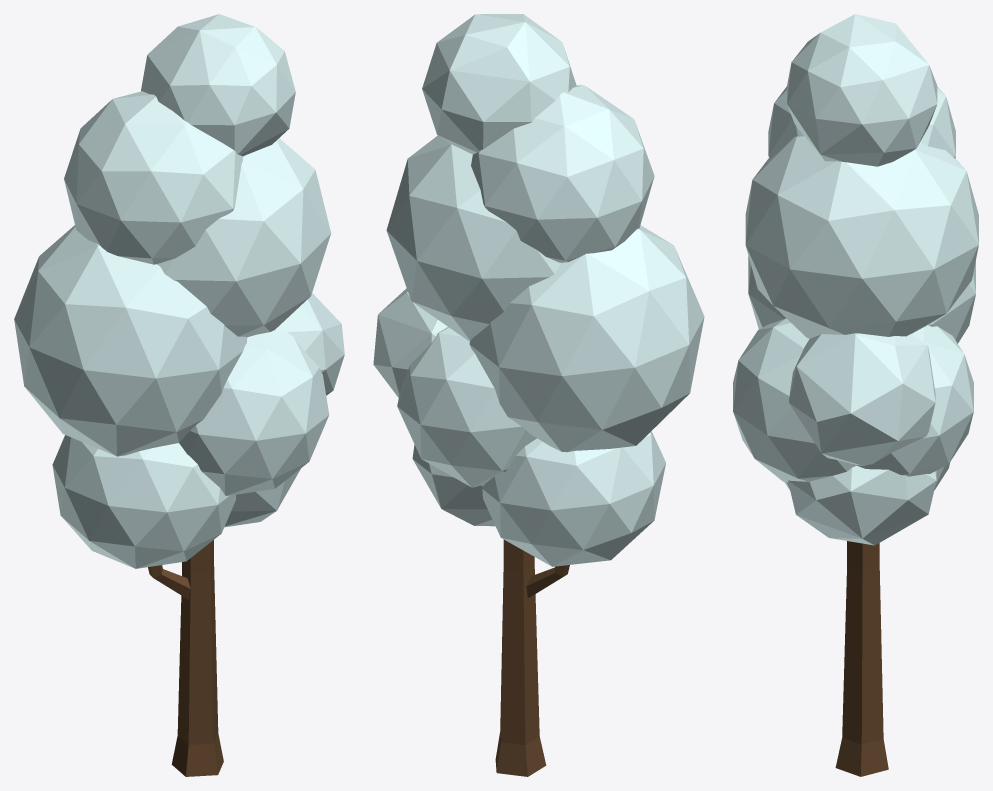
The model's file is tree-oak_white.glb.
3 views of the same model, side by side, from view 1: azimuth 30°, elevation 25°; view 2: azimuth 150°, elevation 25°; view 3: azimuth 270°, elevation 25° (orthographic).
Parts seen in each view (by area): view 1: tree-oak_winter; view 2: tree-oak_winter; view 3: tree-oak_winter.
Part boxes in pixels (left/top/right/bottom): tree-oak_winter: left=14, top=14, right=344, bottom=776; tree-oak_winter: left=373, top=14, right=704, bottom=776; tree-oak_winter: left=733, top=14, right=978, bottom=776.
Bounding box in the file's own units: 3.23 × 7.45 × 2.21.
1 material, 1 textured.
